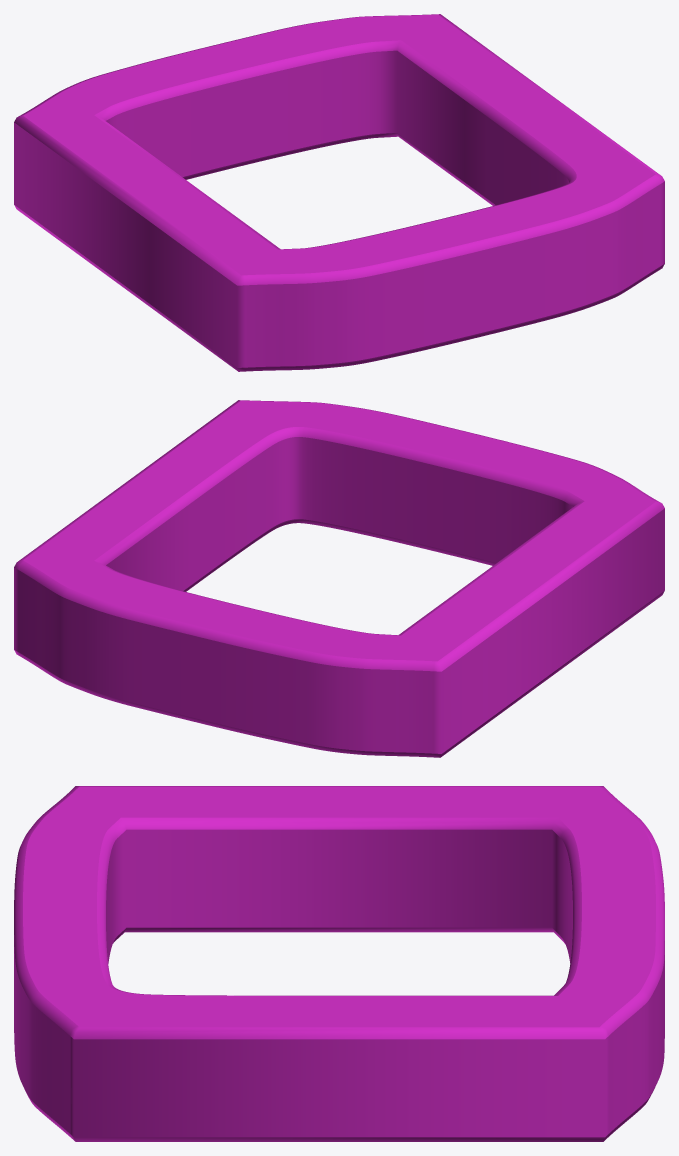
Rendered from Letter_O_Capital_CoolFont.fbx.
The picture shows the model from 3 angles, top to bottom: view 1: azimuth 30°, elevation 25°; view 2: azimuth 150°, elevation 25°; view 3: azimuth 270°, elevation 25°; orthographic projection. The views are drawn at different scales.
Parts seen in each view (by area): view 1: Letter_O; view 2: Letter_O; view 3: Letter_O.
Part boxes in pixels (<box>): Letter_O: <box>14,14,664,371</box>; Letter_O: <box>14,400,664,757</box>; Letter_O: <box>14,786,664,1141</box>.
Bounding box in the file's own units: 0.6529 × 0.14 × 0.7229.
